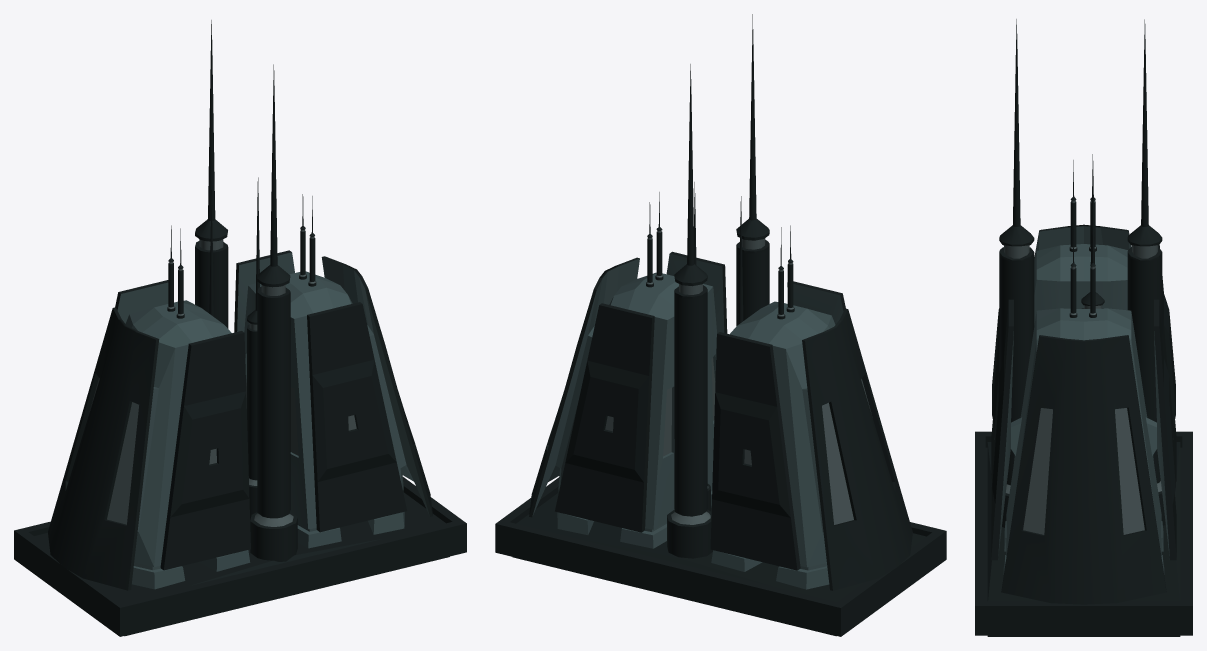
The model's file is TwinHouse.fbx.
3 renders of one model, left to right at view 1: azimuth 30°, elevation 25°; view 2: azimuth 150°, elevation 25°; view 3: azimuth 270°, elevation 25°, orthographic. The views are drawn at different scales.
Visible parts, largest first — view 1: TwinHouse; view 2: TwinHouse; view 3: TwinHouse.
Boxes of the visible parts, left/top/right/bottom form: TwinHouse: left=14, top=20, right=466, bottom=636; TwinHouse: left=495, top=14, right=946, bottom=636; TwinHouse: left=975, top=19, right=1192, bottom=636.
Size of the model in its own units: 11.99 by 17.12 by 6.23.
